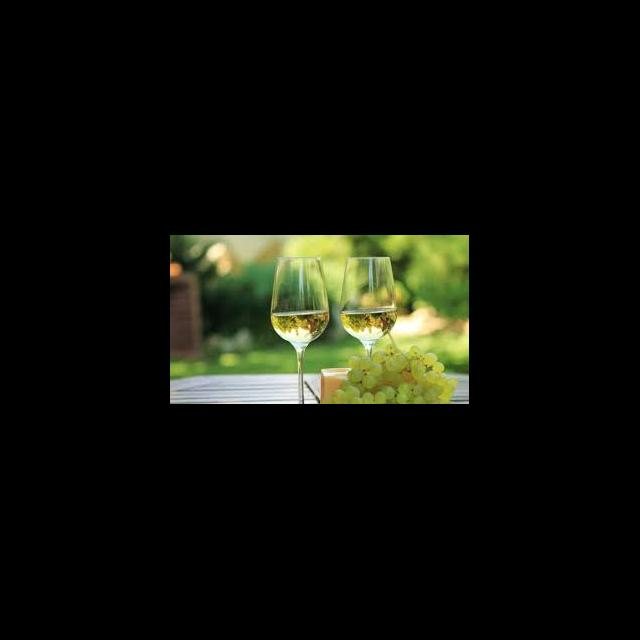grape: (328, 344, 458, 404)
